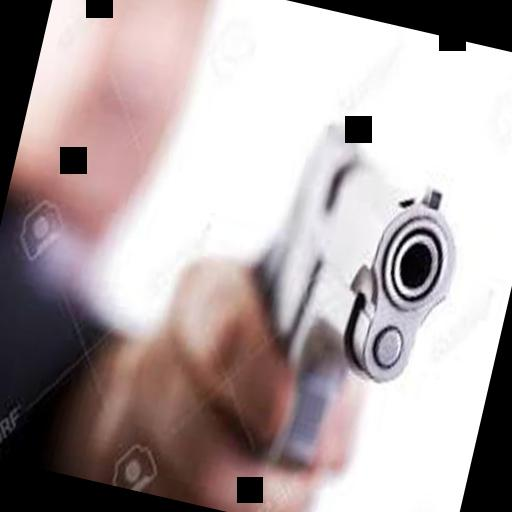Handgun: (231, 104, 488, 496)
